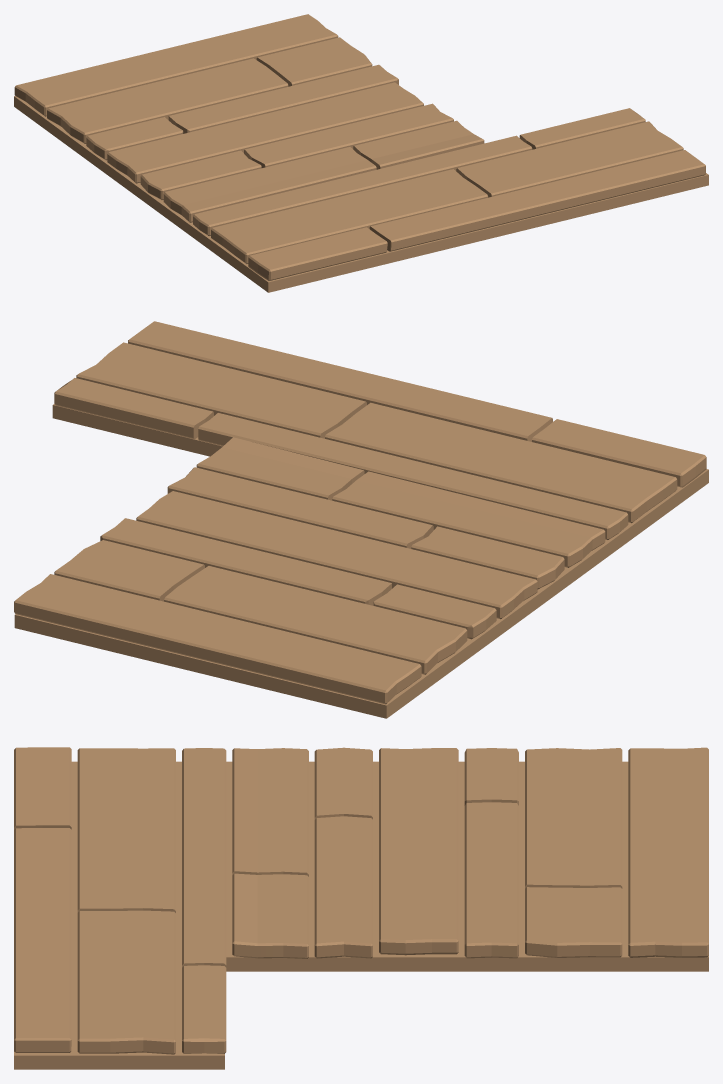
File: floor-d.glb
3 renders of one model, top to bottom at view 1: azimuth 30°, elevation 25°; view 2: azimuth 150°, elevation 25°; view 3: azimuth 270°, elevation 25°, orthographic. The views are drawn at different scales.
Visible parts, largest first — view 1: Floor D; view 2: Floor D; view 3: Floor D.
Part boxes in pixels (left/top/right/bottom): Floor D: left=14, top=14, right=708, bottom=292; Floor D: left=14, top=321, right=708, bottom=718; Floor D: left=14, top=747, right=708, bottom=1069.
Bounding box in the file's own units: 3.08 × 0.1537 × 3.08.
